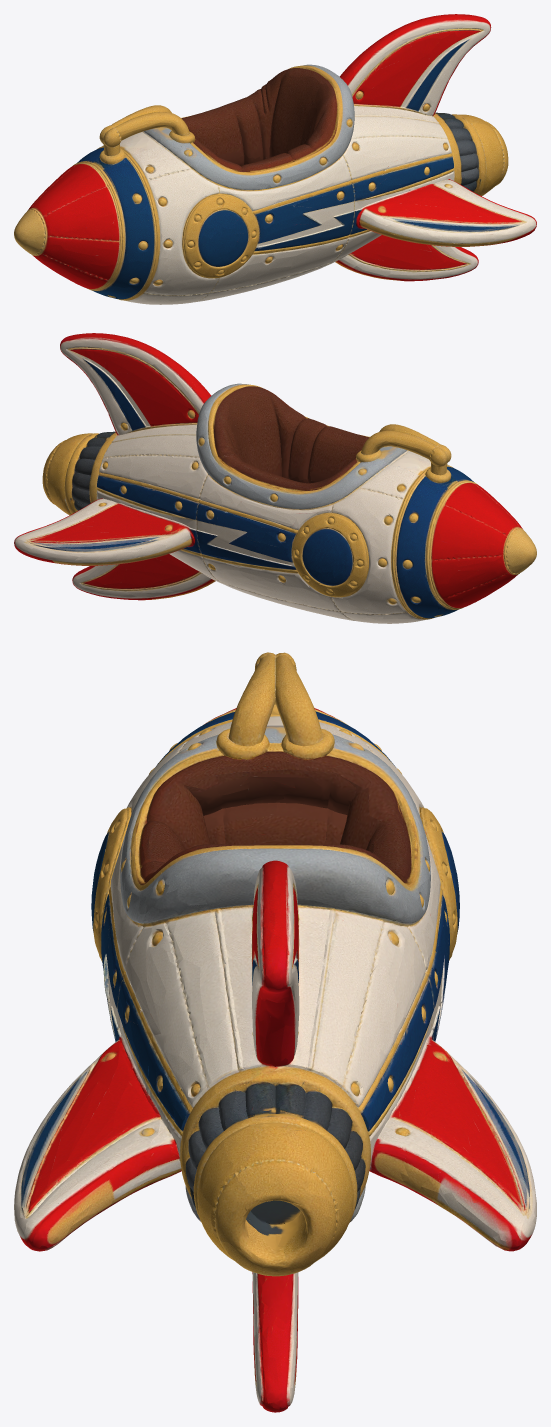
The model's file is rocket.glb.
3 renders of one model, top to bottom at view 1: azimuth 30°, elevation 25°; view 2: azimuth 150°, elevation 25°; view 3: azimuth 270°, elevation 25°, orthographic. The views are drawn at different scales.
Bounding box in the file's own units: 1.9 × 0.9898 × 0.9518.
Materials: 1 (1 with a texture image).
